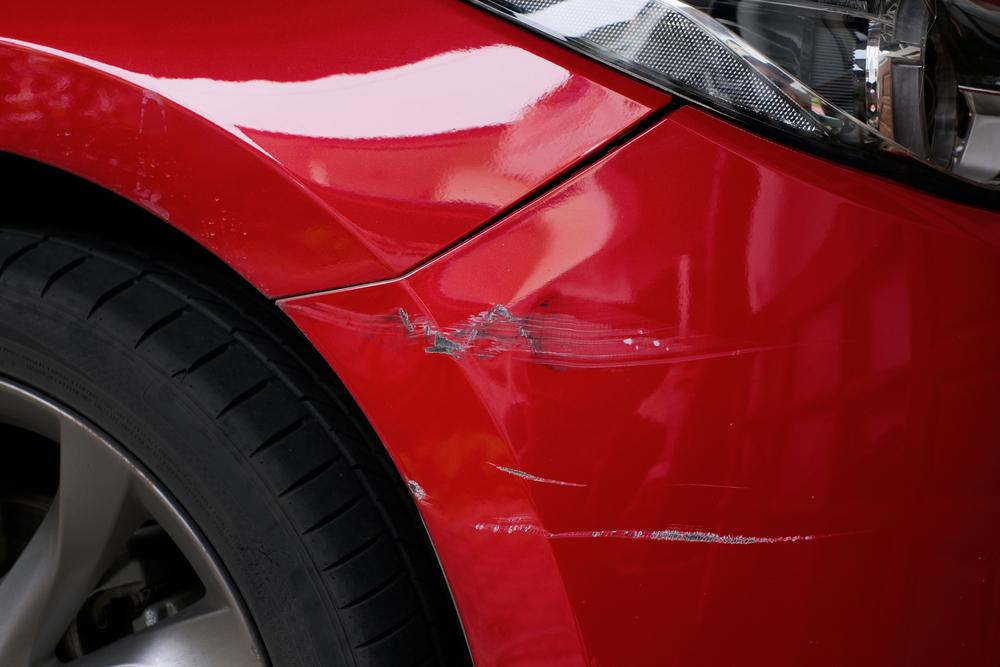scratch: (295, 295, 856, 378), (405, 459, 881, 551)
